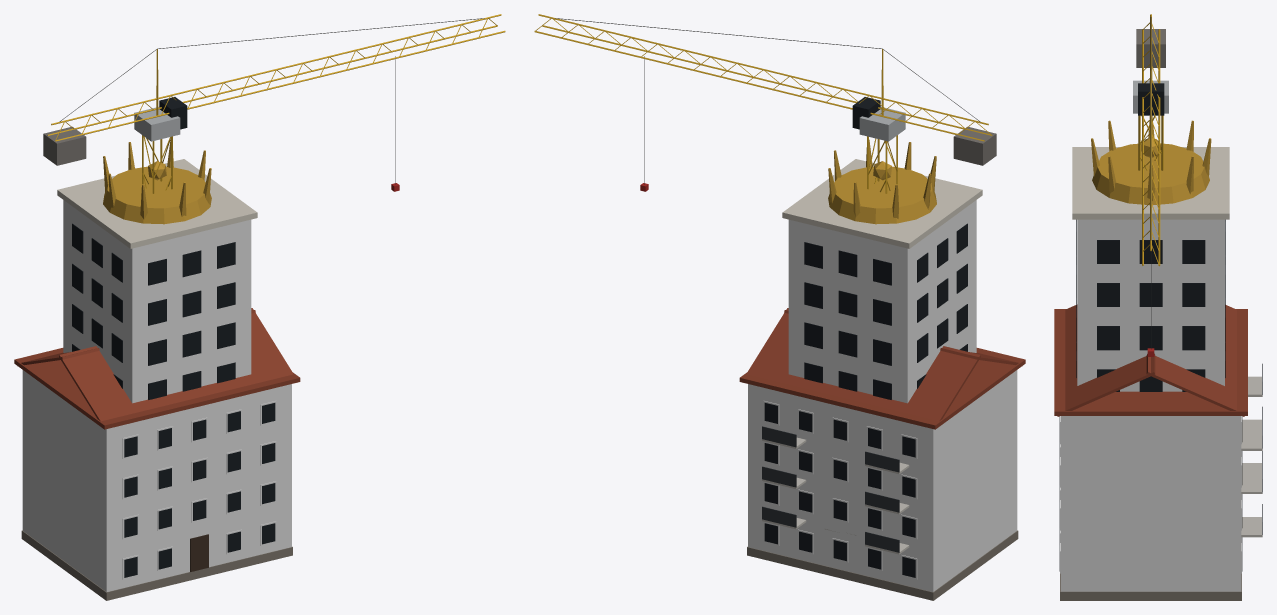
Rendered from stadt.glb.
3 views of the same model, side by side, from view 1: azimuth 30°, elevation 25°; view 2: azimuth 150°, elevation 25°; view 3: azimuth 270°, elevation 25° (orthographic). The views are drawn at different scales.
Visible parts, largest first — view 1: mehrfamilienhaus, turmhaus, kran_ausleger, kran; view 2: mehrfamilienhaus, turmhaus, kran_ausleger, kran; view 3: mehrfamilienhaus, turmhaus, kran_ausleger, kran.
Boxes of the visible parts, left/top/right/bottom form: mehrfamilienhaus: left=14, top=308, right=300, bottom=600; turmhaus: left=57, top=140, right=257, bottom=403; kran_ausleger: left=43, top=14, right=505, bottom=191; kran: left=142, top=135, right=172, bottom=193; mehrfamilienhaus: left=739, top=308, right=1025, bottom=600; turmhaus: left=782, top=139, right=982, bottom=403; kran_ausleger: left=534, top=14, right=996, bottom=191; kran: left=867, top=135, right=897, bottom=193; mehrfamilienhaus: left=1054, top=304, right=1262, bottom=600; turmhaus: left=1072, top=115, right=1229, bottom=391; kran_ausleger: left=1133, top=14, right=1168, bottom=356; kran: left=1138, top=115, right=1163, bottom=170.
Size of the model in its own units: 34.12 by 36.04 by 12.71.
